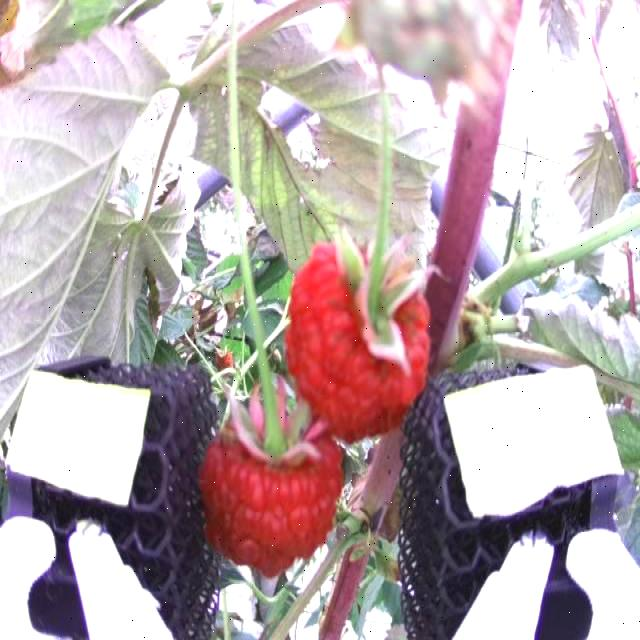Riped berries: (286, 238, 428, 424), (207, 407, 345, 567)
